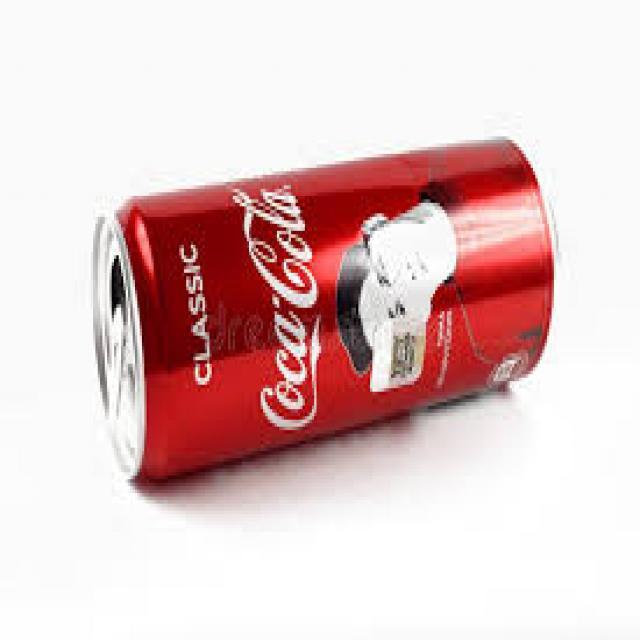recyclable: (90, 135, 554, 485)
